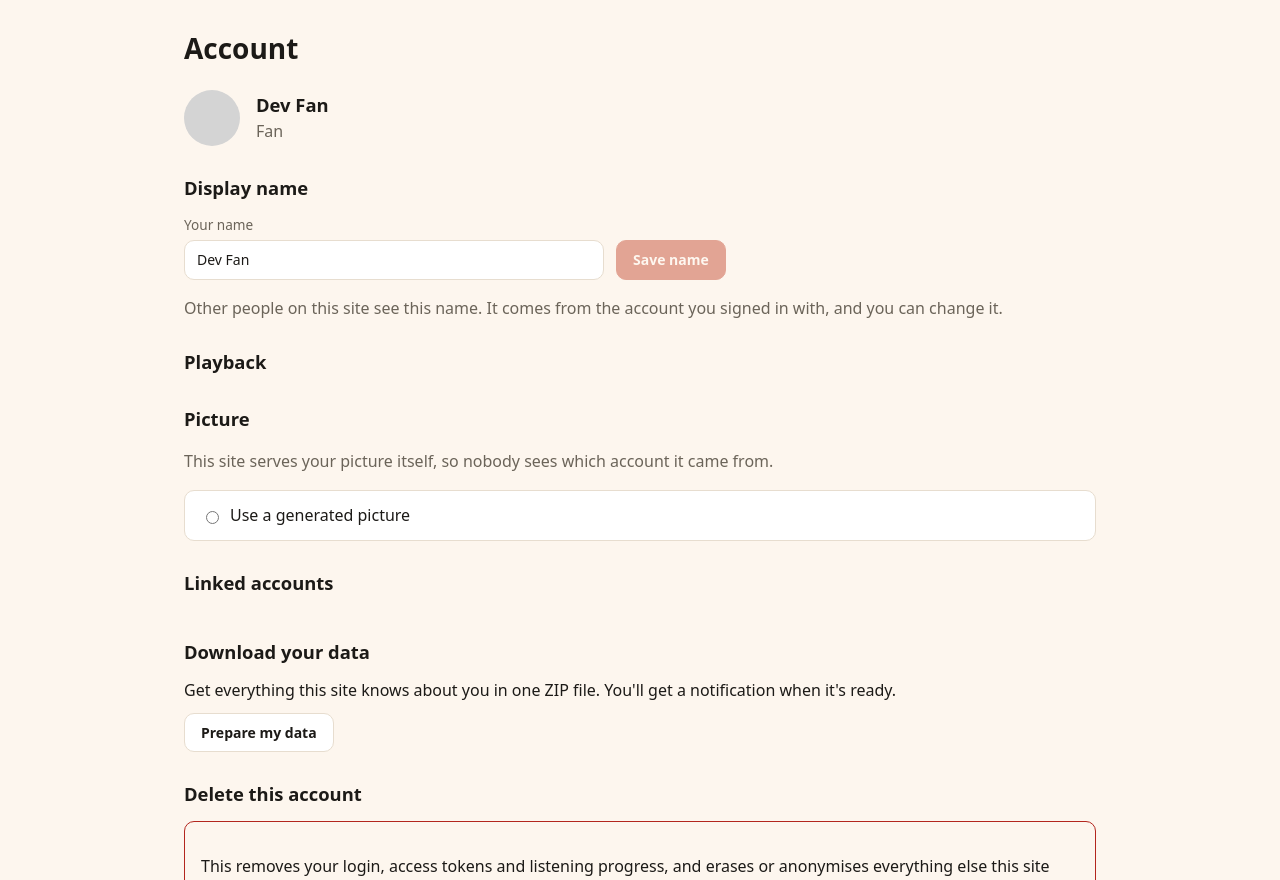
it: AccountPage display name (ARCHITECTURE §8.6) › translates the display-name-taken refusal from the problem type
The width and height of the screenshot is (1280, 880).
Replace the text in the field labelled "Your name" with "Something Else" at x=394, y=260, box left=184, top=240, right=604, bottom=280
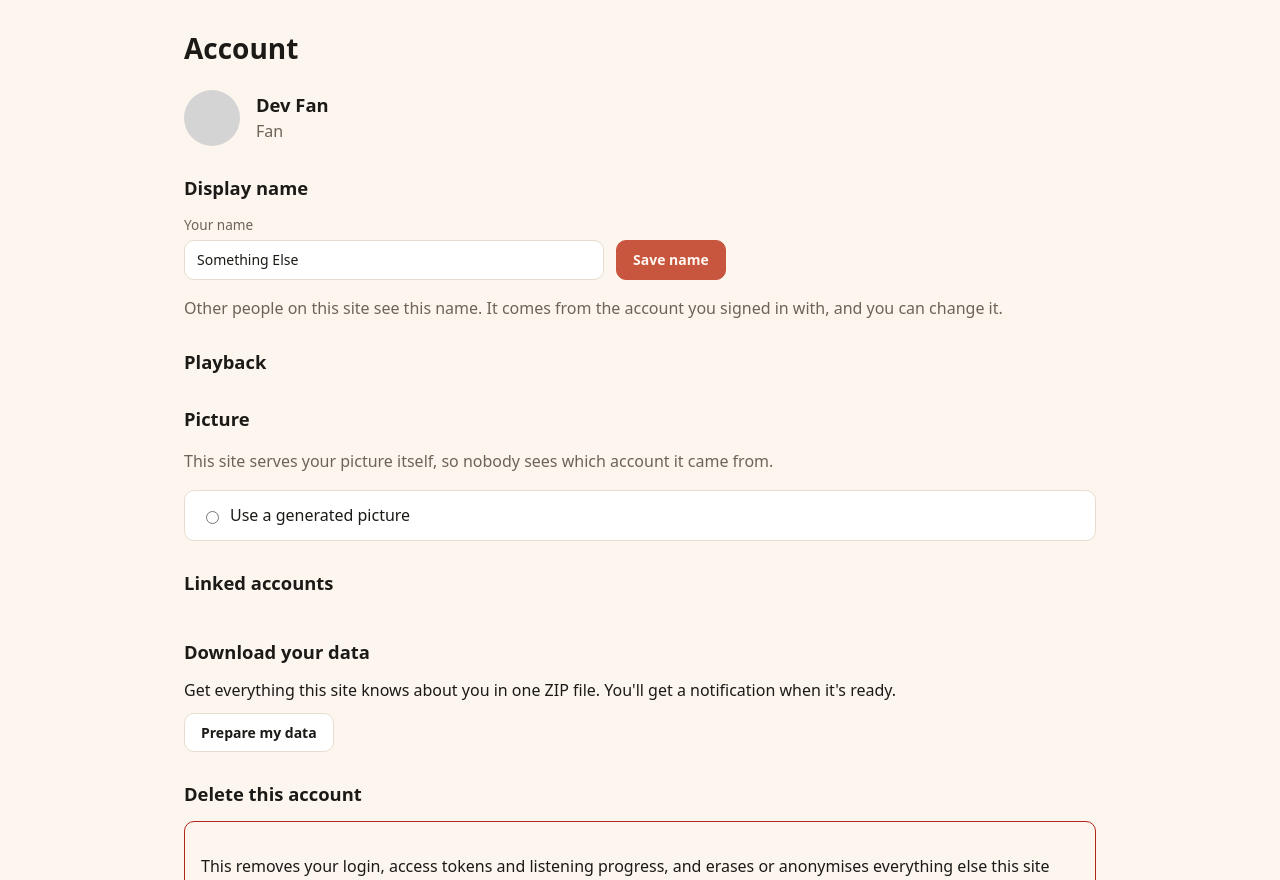
Click the button "Save name" at x=671, y=260, box left=616, top=240, right=726, bottom=280
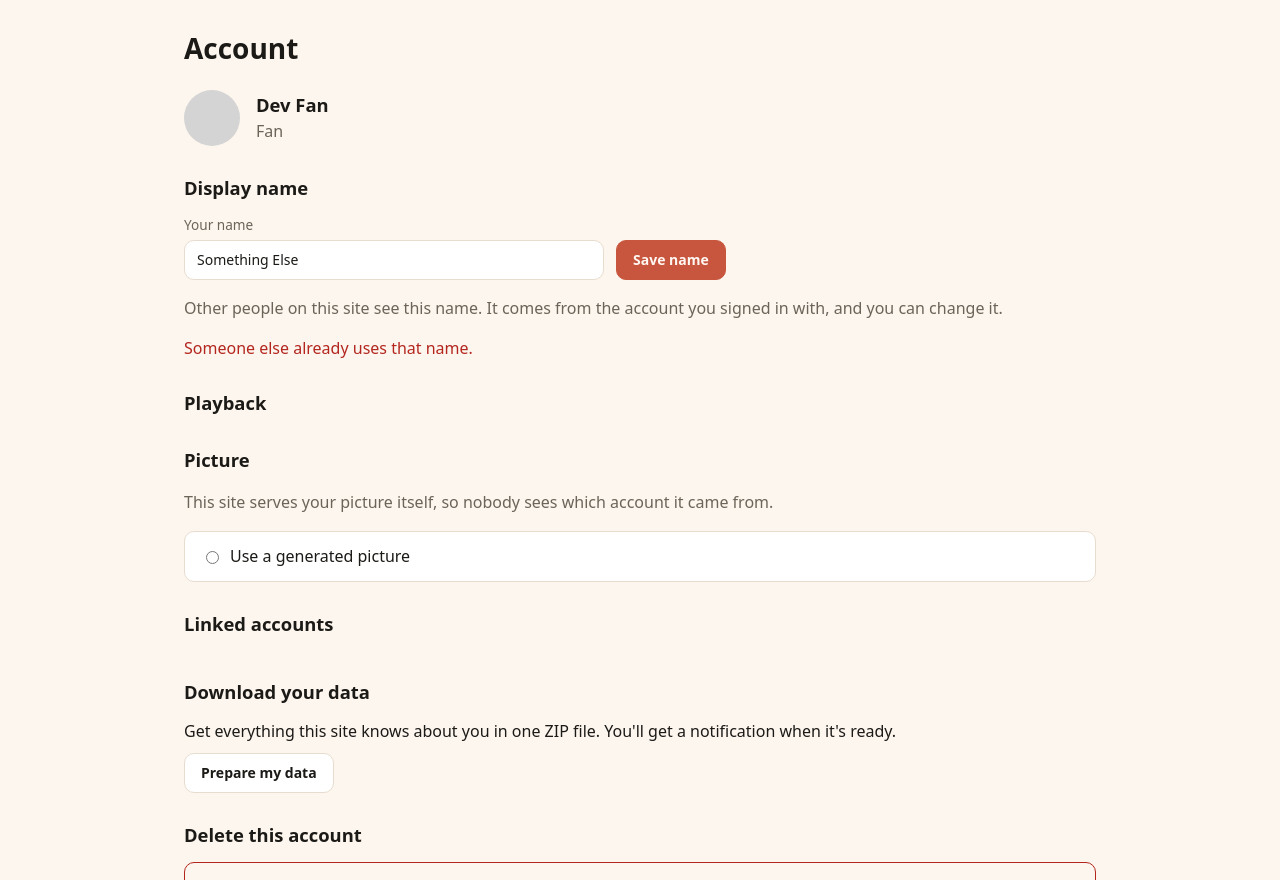
Result: the text "Someone else already uses that name." is shown at left=184, top=338, right=473, bottom=360
